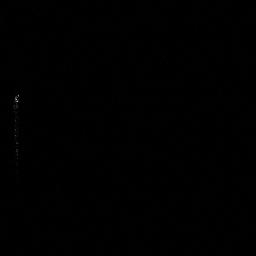ship: (13, 89, 21, 166)
